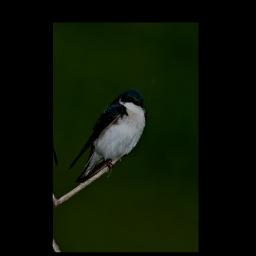Swallow: (66, 72, 154, 201)
